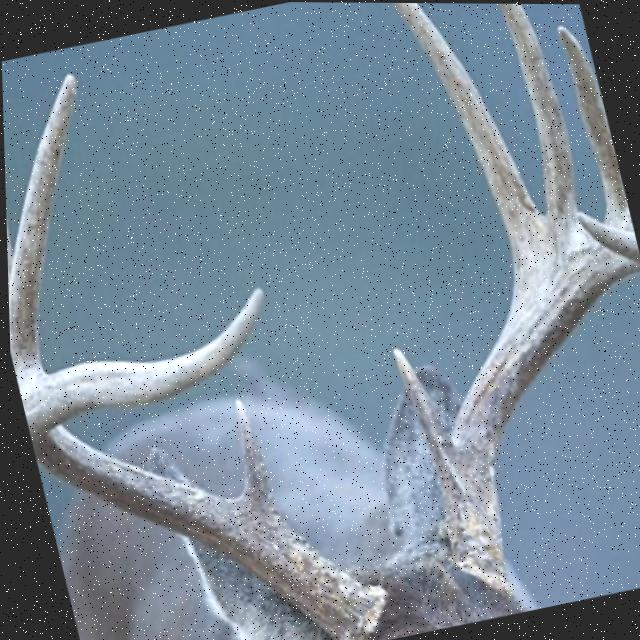L-F: (441, 209, 640, 598)
L-G1: (388, 344, 456, 482)
L-G2: (394, 2, 550, 287)
L-G3: (498, 3, 577, 218)
L-G4: (559, 25, 631, 225)
R-F: (17, 284, 384, 640)
R-G1: (225, 394, 281, 519)
R-G3: (7, 71, 77, 377)
